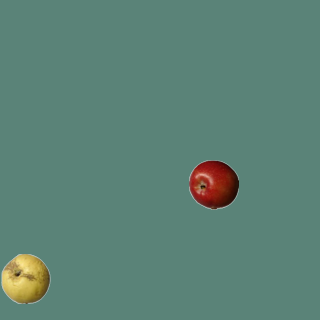Apple Braeburn: (188, 159, 238, 209)
Apple Golden 1: (0, 253, 50, 303)
